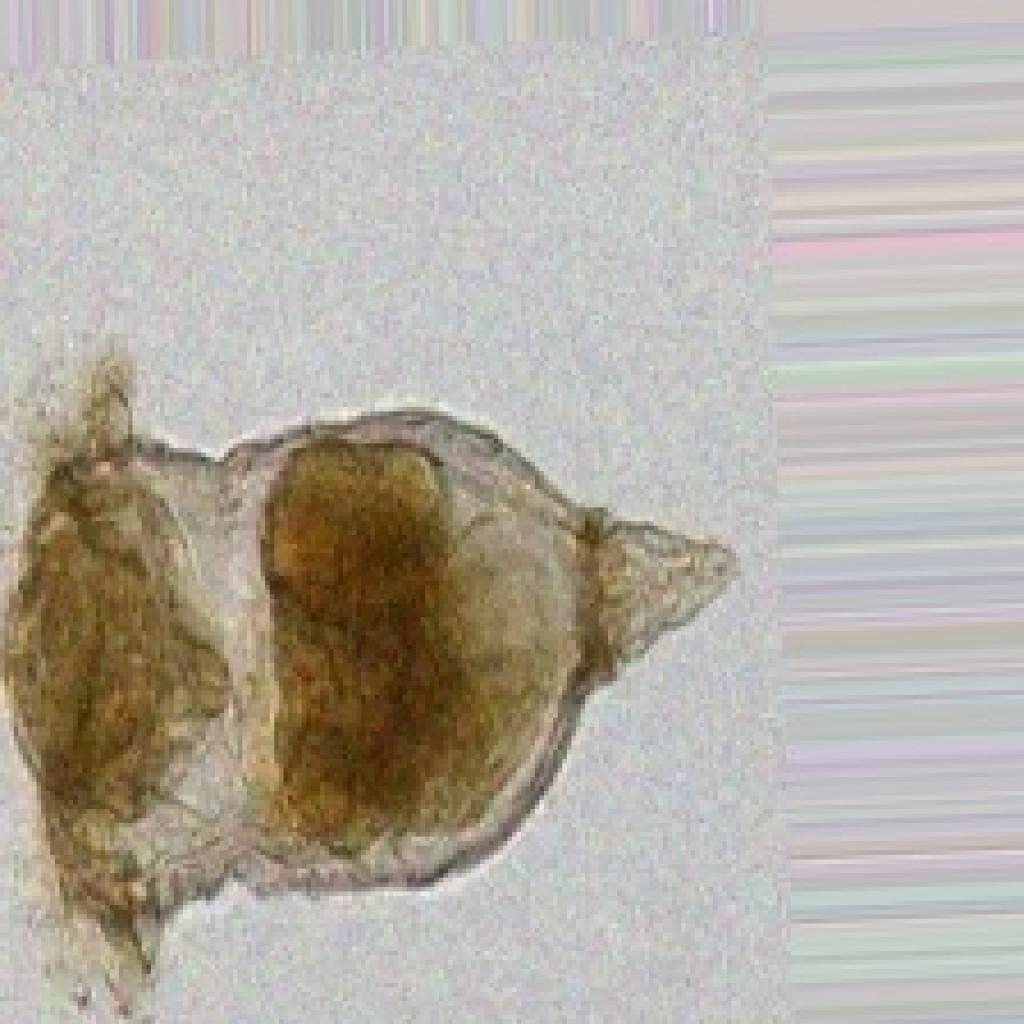Rotifer: (0, 338, 736, 997)
